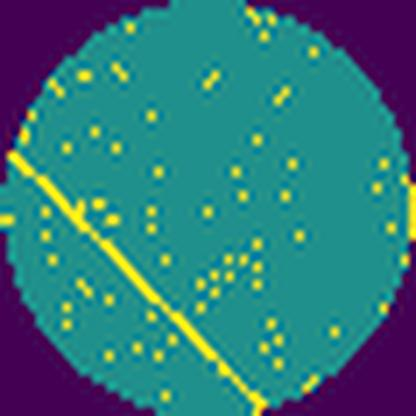Scratch: (8, 151, 271, 411)
